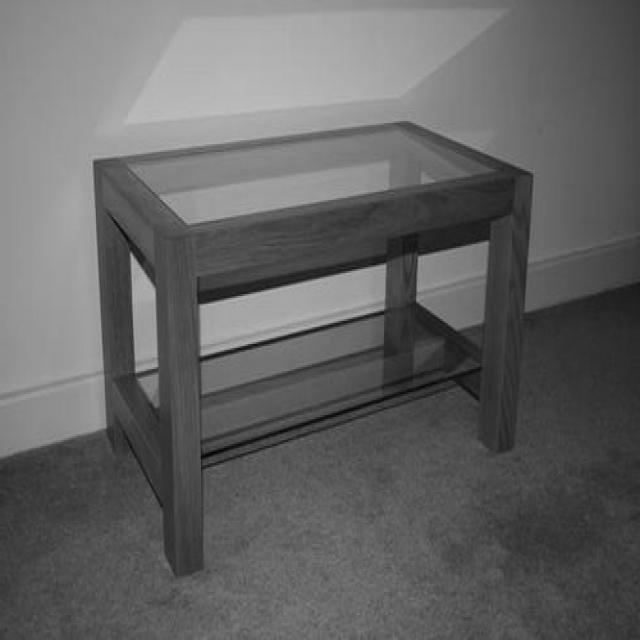table: (88, 115, 536, 574)
